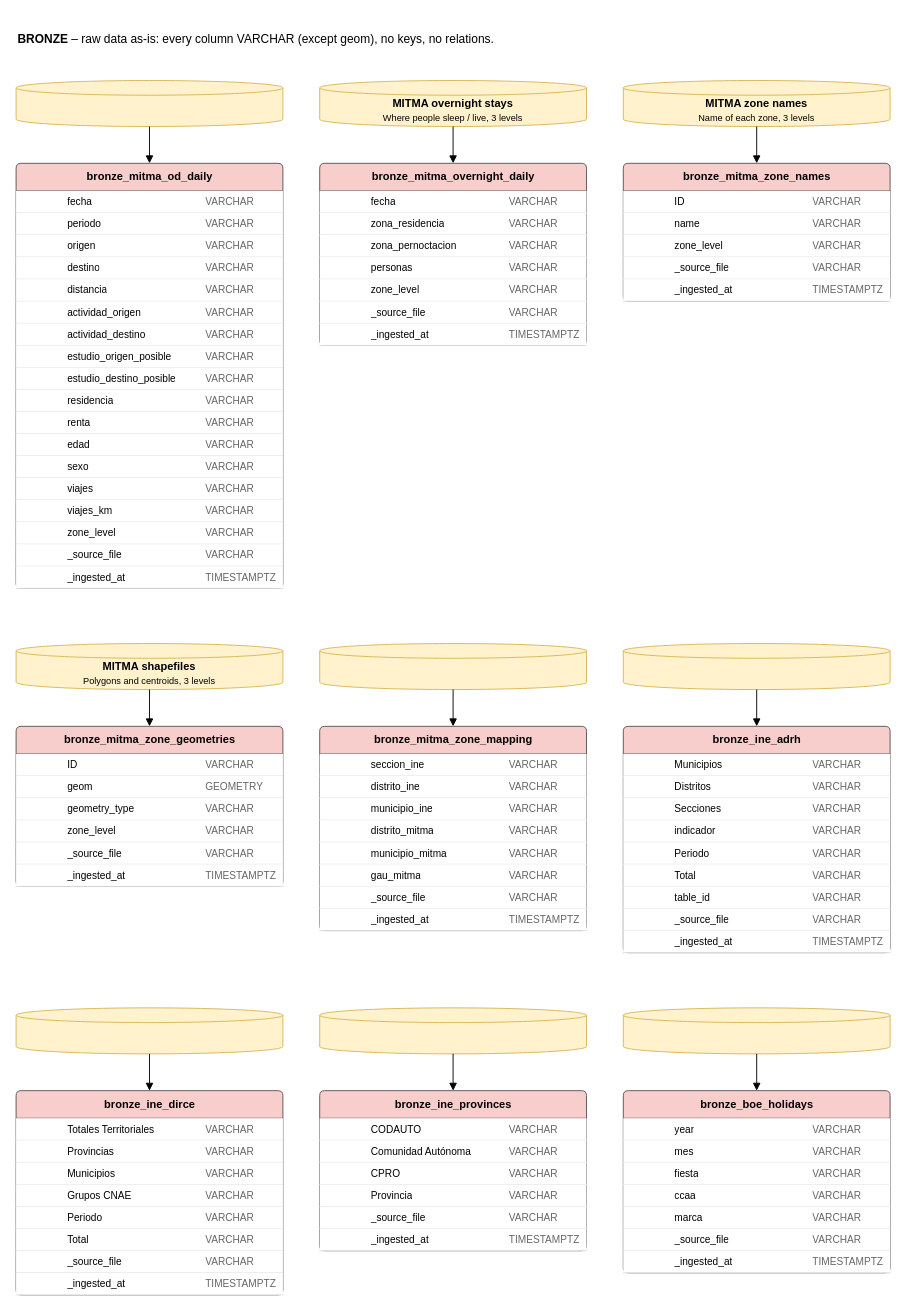
Some shapes in this 906 by 1311 pixel diagram are drawn without their labels. Each missing label, with the centre of its shape:
"BOE holidays One XML file per year (unpivoted)" belongs at point 756,1030.
"INE ADRH Tables 30832, 30824, 30825, 37677" belongs at point 756,666.
"INE DIRCE Businesses by municipality, table 4721" belongs at point 149,1030.
"INE provinces Region of each province" belongs at point 452,1030.
"MITMA trips Daily OD trips per hour, 3 zone levels" belongs at point 149,103.
"MITMA-INE relation INE census section → MITMA zones" belongs at point 452,666.
